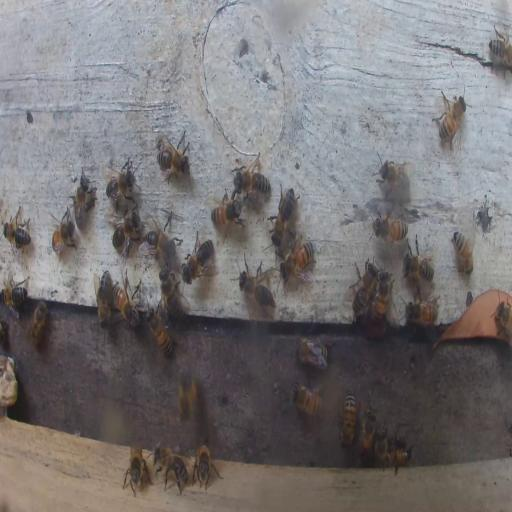bee: (430, 88, 468, 150), (234, 261, 276, 308), (401, 233, 436, 285), (349, 255, 377, 317), (155, 445, 189, 495), (270, 185, 298, 244), (182, 232, 214, 283), (156, 131, 188, 180), (104, 156, 137, 203), (114, 278, 144, 326), (487, 22, 512, 79), (72, 166, 94, 230), (144, 221, 177, 262), (209, 189, 241, 231), (146, 308, 174, 356), (280, 240, 314, 279), (50, 205, 76, 256), (159, 273, 187, 320), (111, 210, 143, 250), (176, 368, 198, 426), (369, 272, 392, 326), (231, 165, 271, 196), (376, 157, 409, 194), (194, 441, 218, 488), (291, 383, 323, 417), (451, 229, 474, 276), (28, 299, 50, 348), (94, 270, 113, 326), (123, 445, 144, 495), (294, 338, 328, 368), (0, 278, 28, 314), (339, 391, 357, 447), (372, 214, 409, 241), (405, 298, 439, 326), (359, 405, 376, 458), (492, 302, 512, 344), (4, 215, 31, 246), (386, 445, 411, 466), (375, 427, 388, 467)
